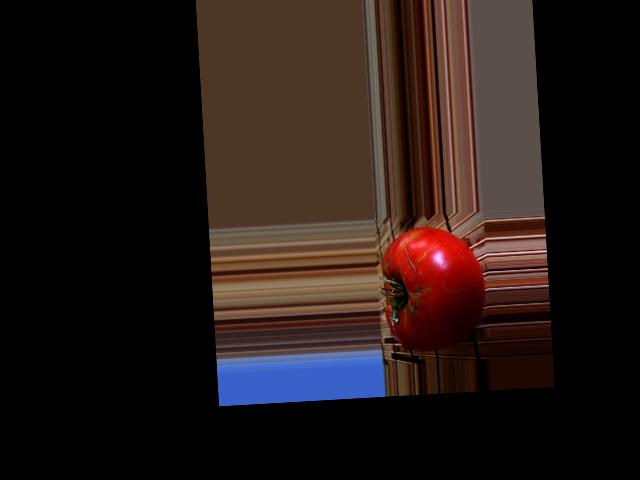tomato: (380, 224, 487, 353)
